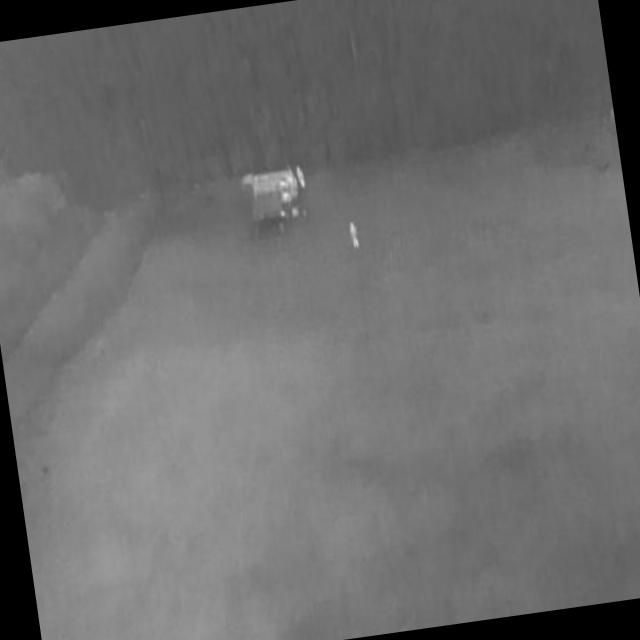person: (348, 221, 361, 252), (295, 166, 306, 192)
